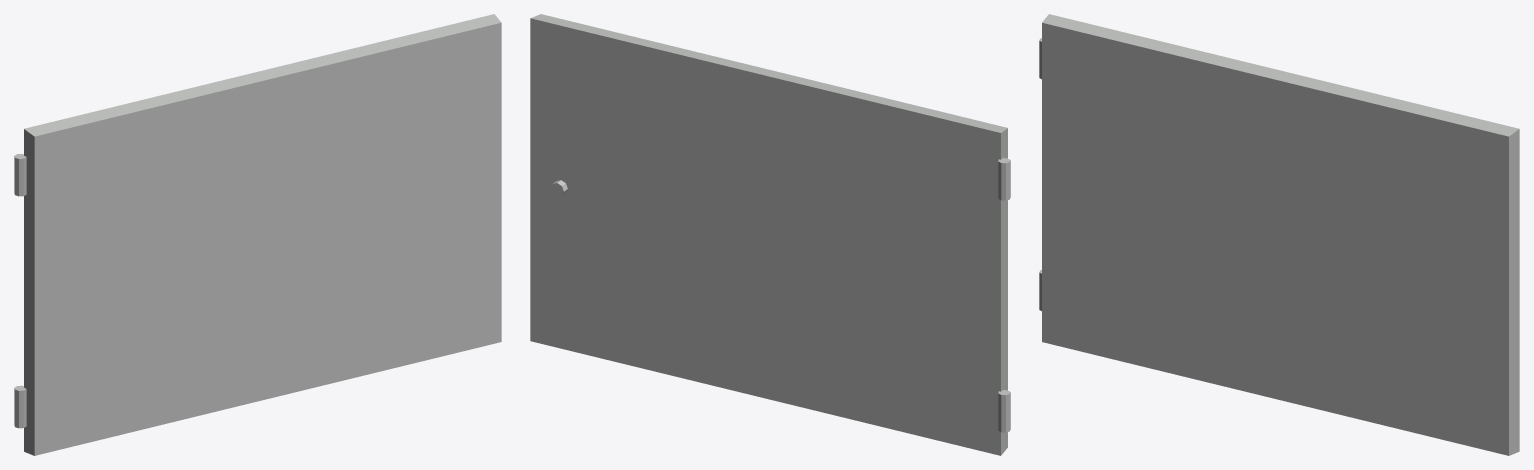
File: SM_Cart_BodyDoor_R_01.fbx
The picture shows the model from 3 angles, left to right: view 1: azimuth 30°, elevation 25°; view 2: azimuth 150°, elevation 25°; view 3: azimuth 330°, elevation 25°; orthographic projection.
Visible parts, largest first — view 1: SM_Cart_BodyDoor_R_01; view 2: SM_Cart_BodyDoor_R_01; view 3: SM_Cart_BodyDoor_R_01.
Boxes of the visible parts, x1,y1,x2,y2 form: SM_Cart_BodyDoor_R_01: [14, 14, 501, 455]; SM_Cart_BodyDoor_R_01: [530, 14, 1010, 455]; SM_Cart_BodyDoor_R_01: [1039, 14, 1519, 455].
Size of the model in its own units: 0.5625 by 0.362 by 0.026.
1 material, 1 textured.
